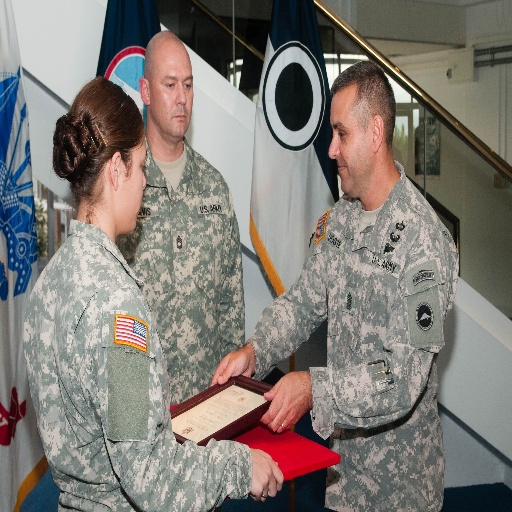hand: (267, 374, 314, 441), (248, 446, 283, 501), (210, 348, 252, 385)
